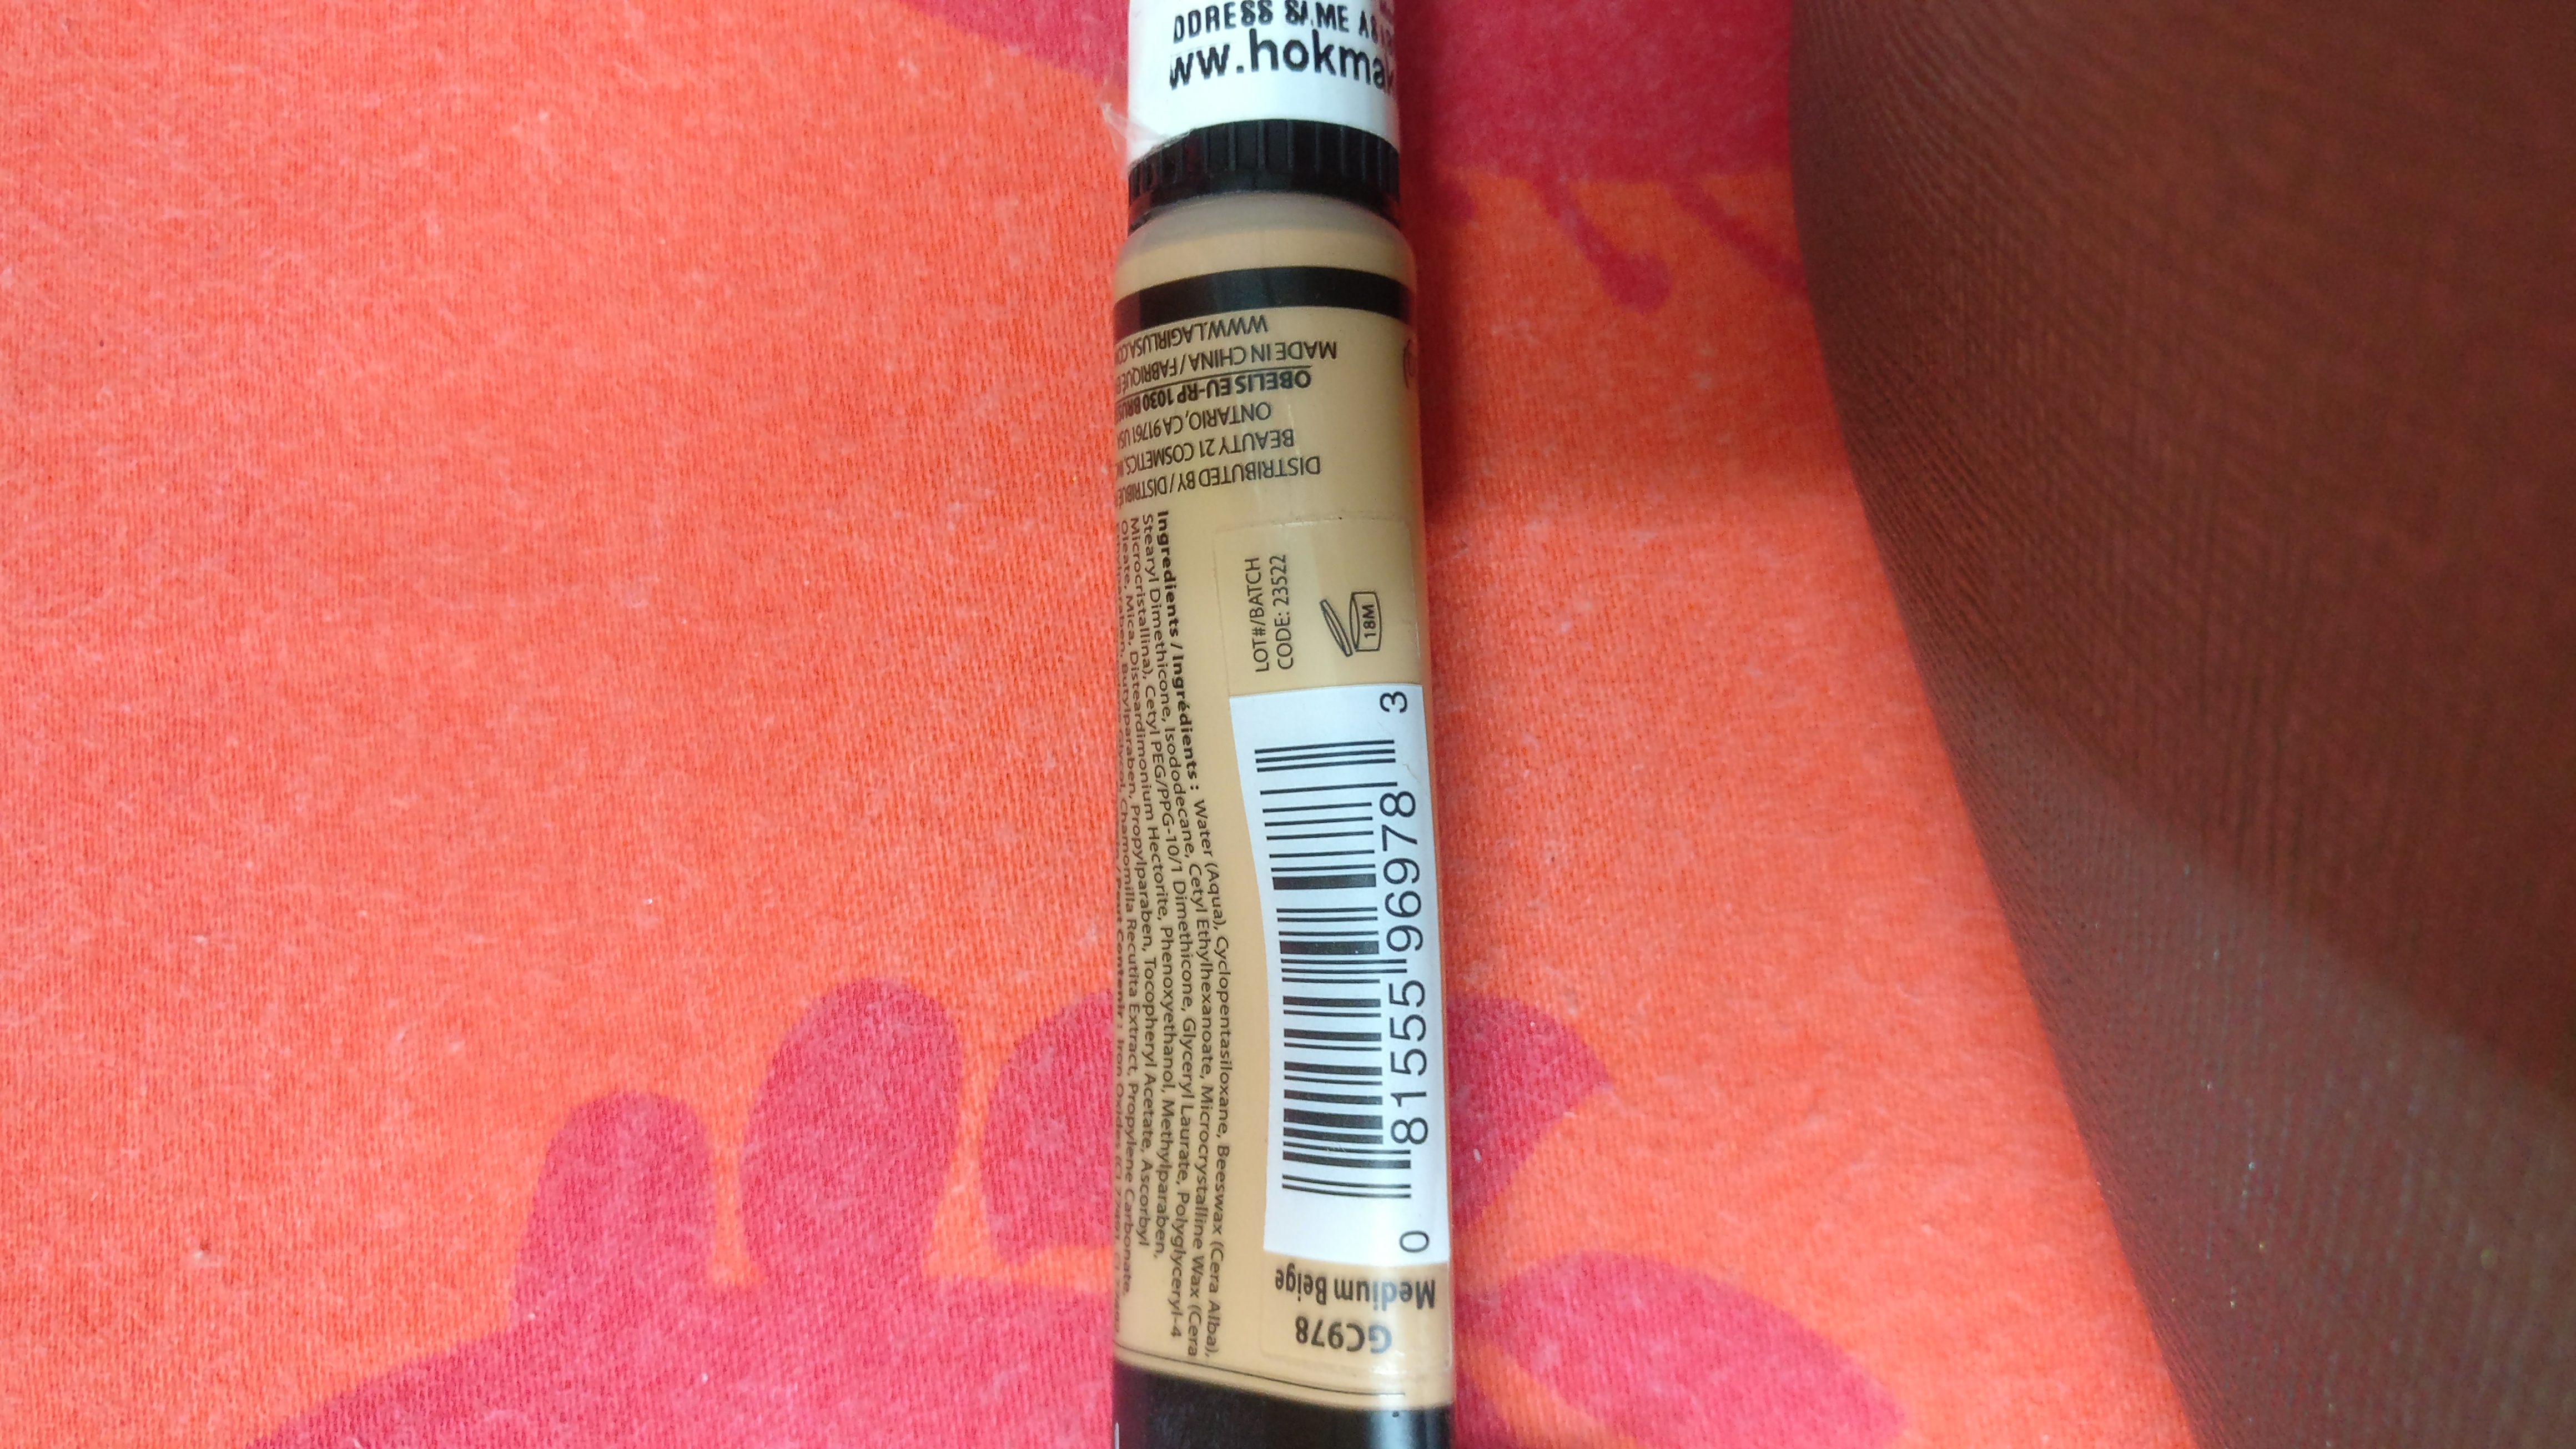barcode: (1235, 740, 1474, 1207)
